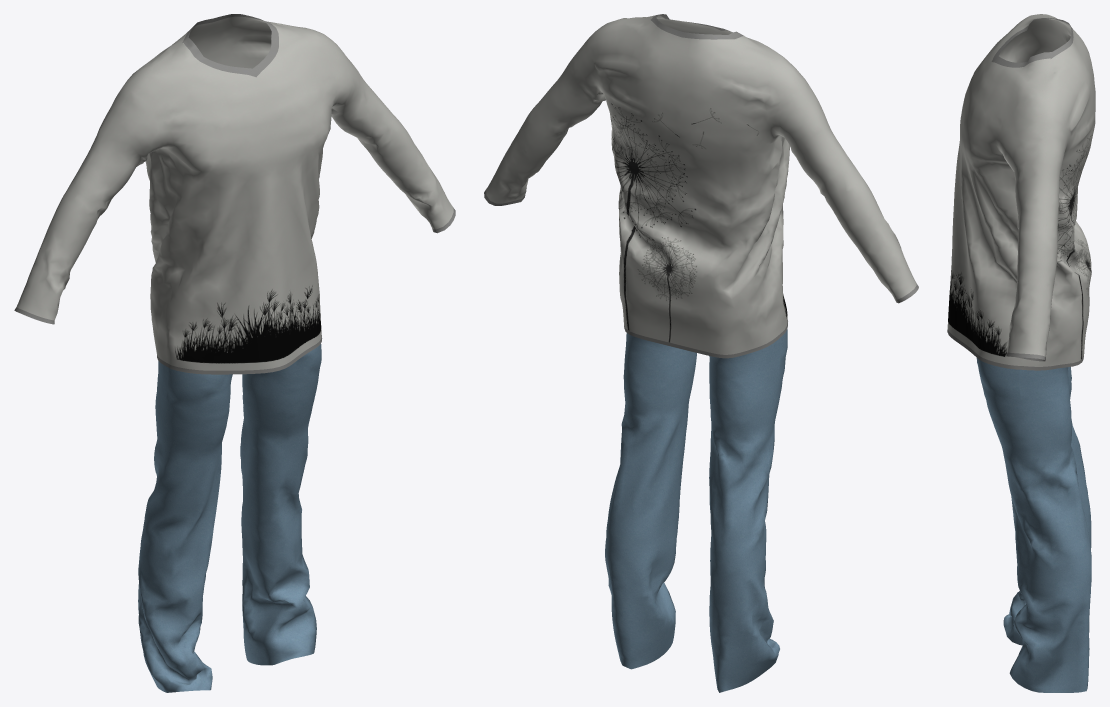
Rendered from t-shirt_and_pant.glb.
3 renders of one model, left to right at view 1: azimuth 30°, elevation 25°; view 2: azimuth 150°, elevation 25°; view 3: azimuth 270°, elevation 25°, orthographic. The views are drawn at different scales.
Parts seen in each view (by area): view 1: Object_3, Object_2; view 2: Object_3, Object_2; view 3: Object_3, Object_2.
Boxes of the visible parts, bbox=[...] form: Object_3: bbox=[14, 14, 455, 374]; Object_2: bbox=[138, 344, 321, 692]; Object_3: bbox=[484, 14, 918, 358]; Object_2: bbox=[605, 329, 787, 692]; Object_3: bbox=[947, 14, 1095, 370]; Object_2: bbox=[976, 358, 1091, 692].
Size of the model in its own units: 4.17 by 5.98 by 1.26.
Materials: 1 (1 with a texture image).
